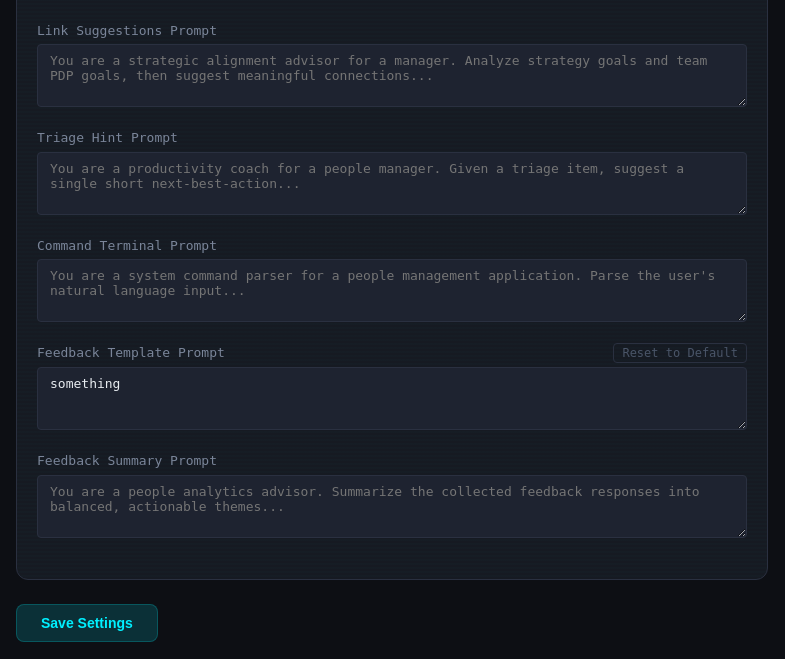
SettingsPage feedback prompts › resets a prompt to empty via Reset to Default
The width and height of the screenshot is (785, 659).
(page scrolled)
Expected: the text box with test id "input-feedback-template-prompt" holds "something", [37,367,747,430]
Click the button with test id "input-feedback-template-prompt-reset-btn" at (680, 353), box [613,343,747,363]
(page scrolled)
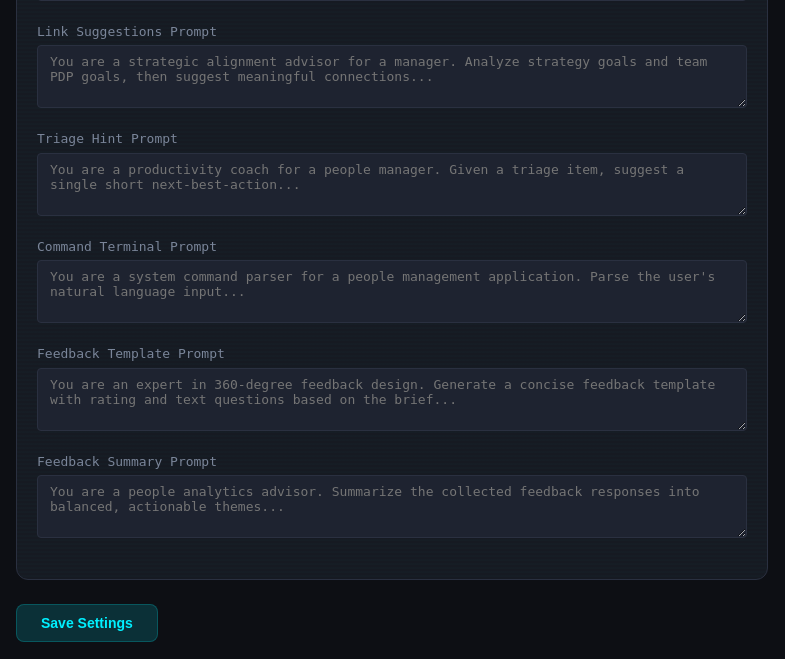
Result: the text box with test id "input-feedback-template-prompt" is empty at [37,368,747,430]
